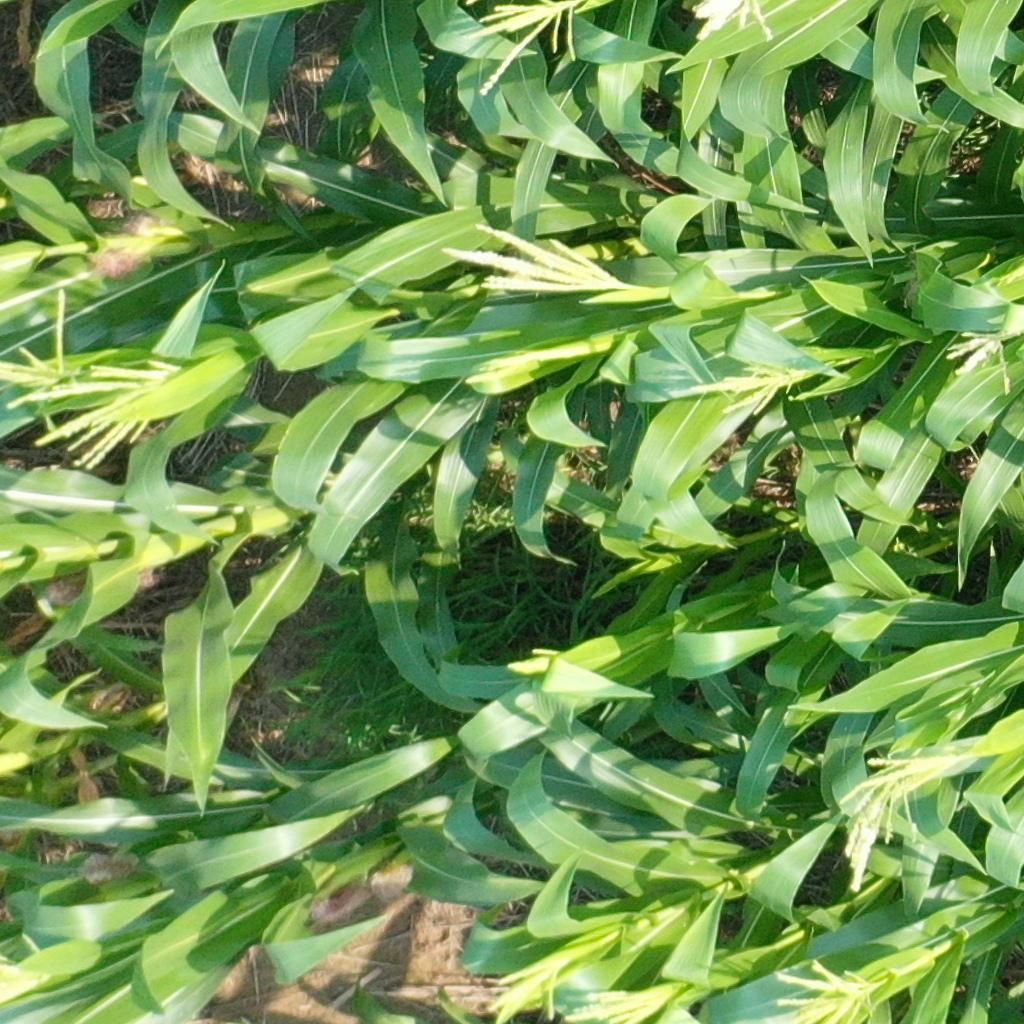Tassel: (25, 356, 193, 474), (433, 218, 625, 300), (829, 748, 917, 899), (467, 1, 587, 100), (1, 285, 89, 418), (761, 958, 886, 1024), (689, 361, 803, 422), (484, 951, 574, 1024), (856, 751, 972, 802), (944, 326, 1022, 394), (563, 979, 679, 1024), (685, 1, 779, 49), (460, 349, 551, 385), (504, 642, 559, 677)
